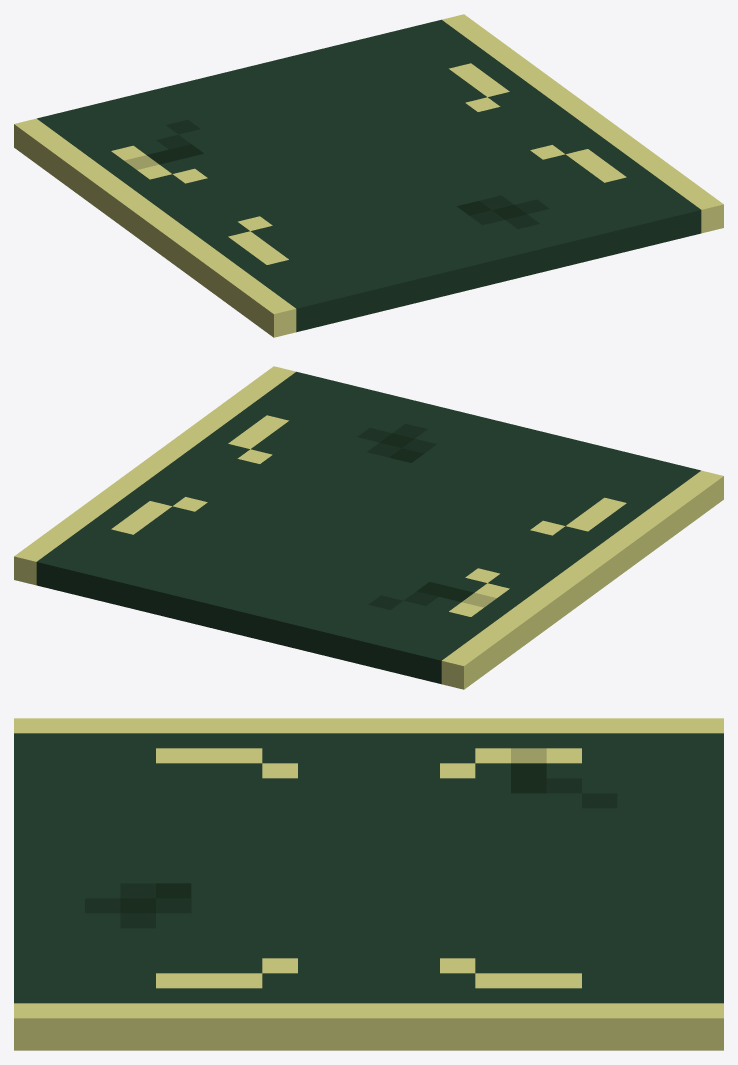
Rendered from GreenRug_Mid_01.obj.
3 renders of one model, top to bottom at view 1: azimuth 30°, elevation 25°; view 2: azimuth 150°, elevation 25°; view 3: azimuth 270°, elevation 25°, orthographic. The views are drawn at different scales.
Parts seen in each view (by area): view 1: GreenRug_Mid_01.001; view 2: GreenRug_Mid_01.001; view 3: GreenRug_Mid_01.001.
Part boxes in pixels (x1=…): GreenRug_Mid_01.001: x1=14, y1=14, x2=723, y2=337; GreenRug_Mid_01.001: x1=14, y1=366, x2=723, y2=689; GreenRug_Mid_01.001: x1=14, y1=718, x2=723, y2=1050.
Bounding box in the file's own units: 2 × 0.1 × 2.
